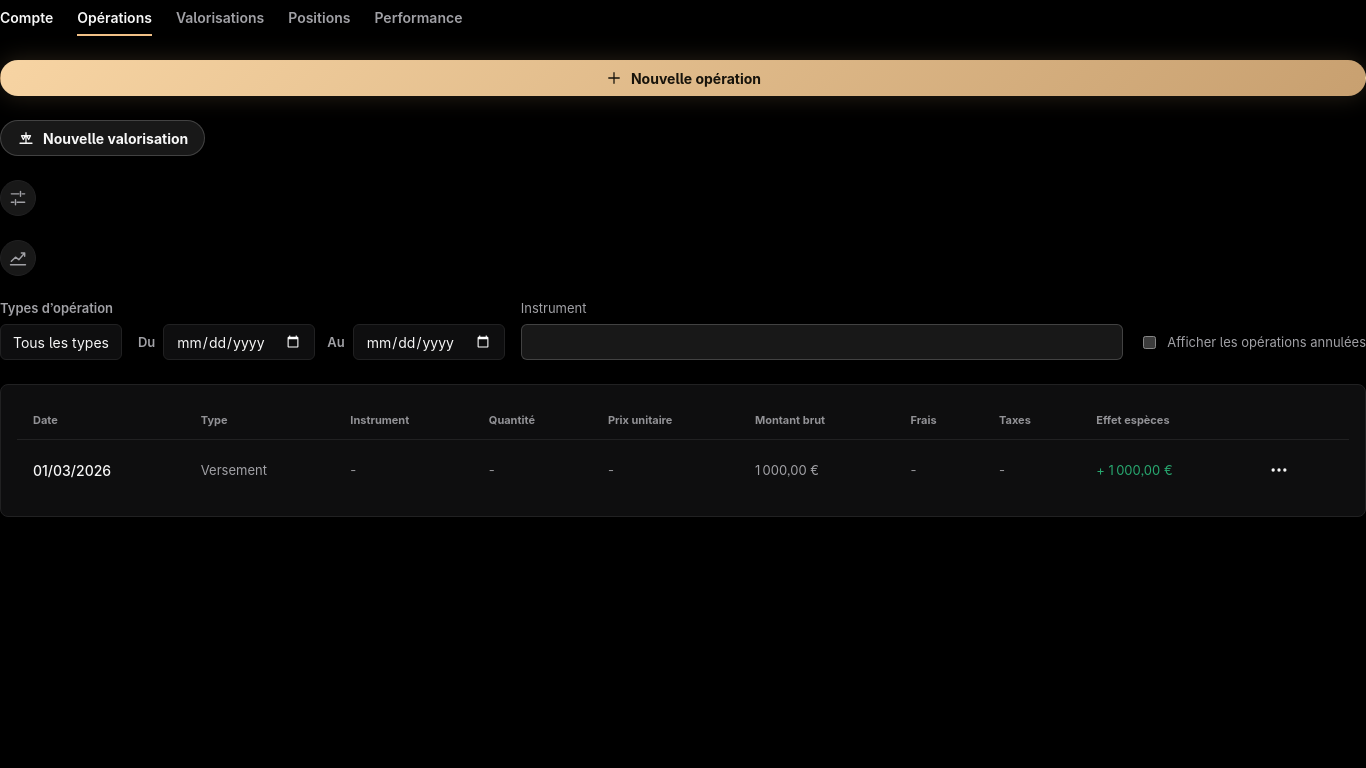
Test: PortfolioAccountPage › offers day reordering when a sibling operation is hidden from the current list
Click the button named "Actions pour".
click(1279, 470)  # box [1261,452,1297,488]
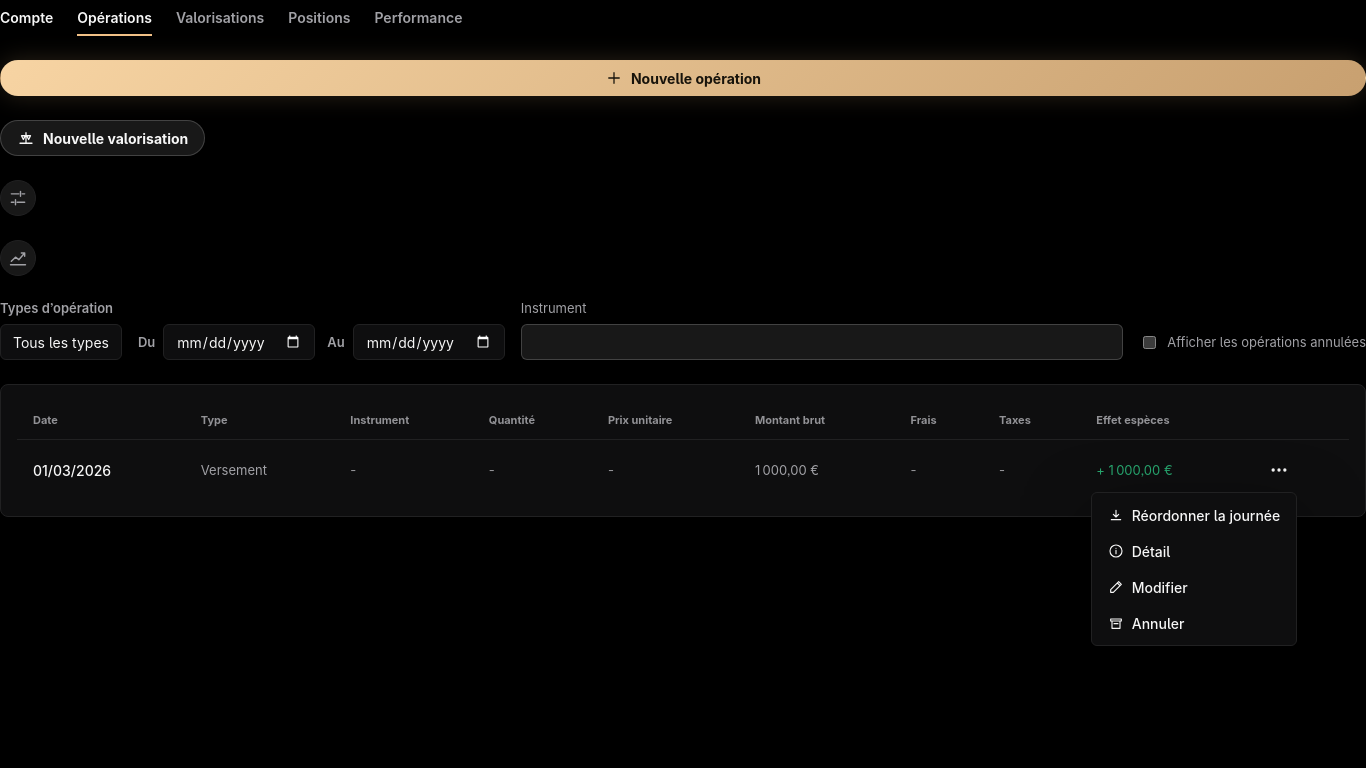
Click the button "Réordonner la journée".
click(1194, 515)  # box [1096,497,1292,533]
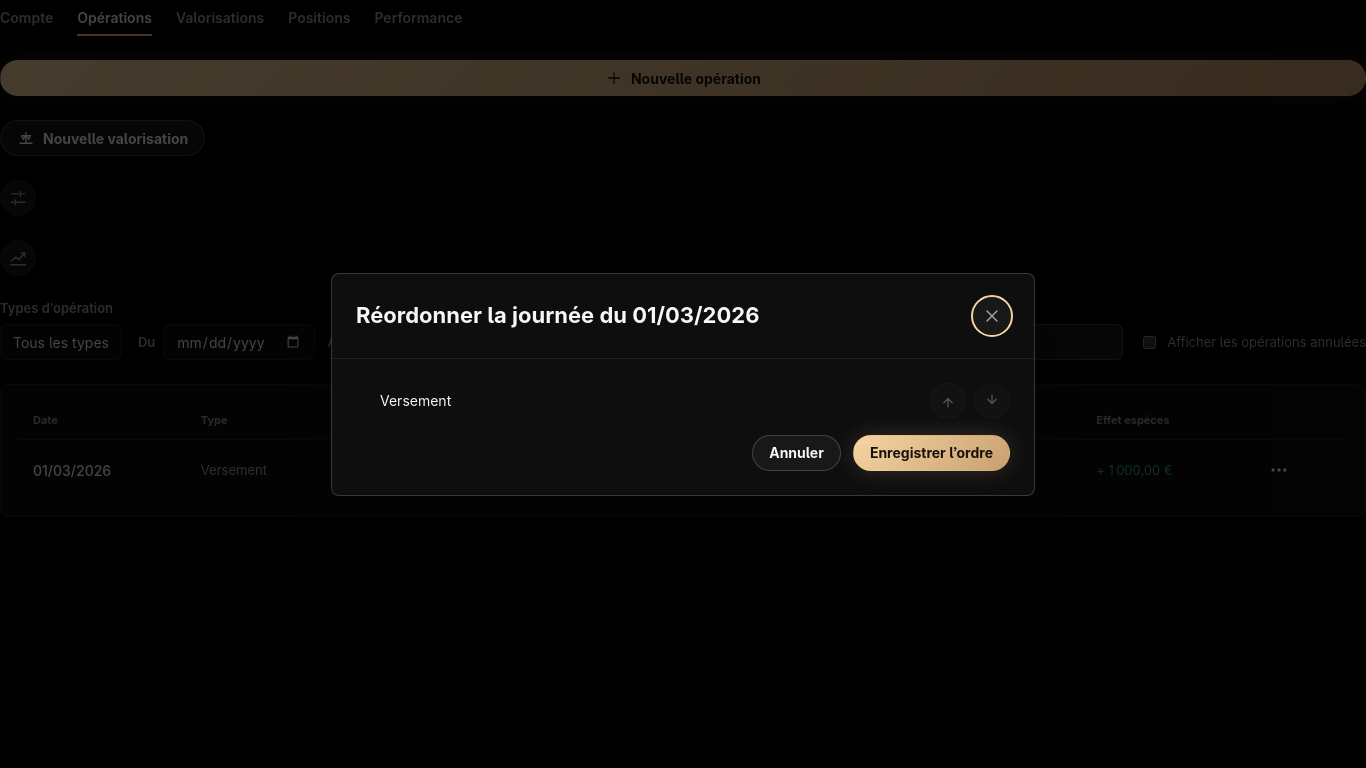
expect the dialog "Réordonner la journée" is shown: met, box [331,272,1035,496]
